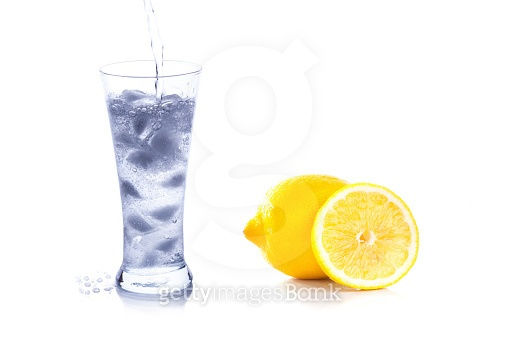glass of water: (97, 54, 201, 301)
